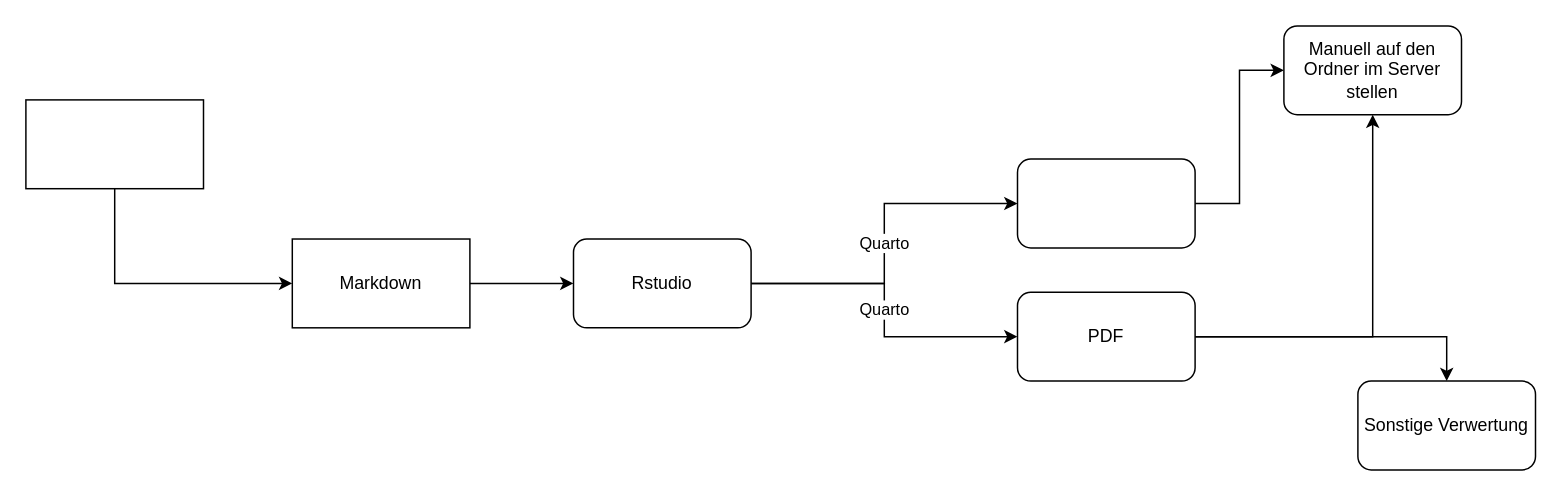
The diagram is 1561 pixels wide and 496 high, and some of its shapes have lost their labels. Here are the shapes that lost their labels. From the top down, the centre of each, then its label:
At point 114,143: "Hack MD (collaborativ) oder Alternative".
At point 1105,203: "Webseite".
